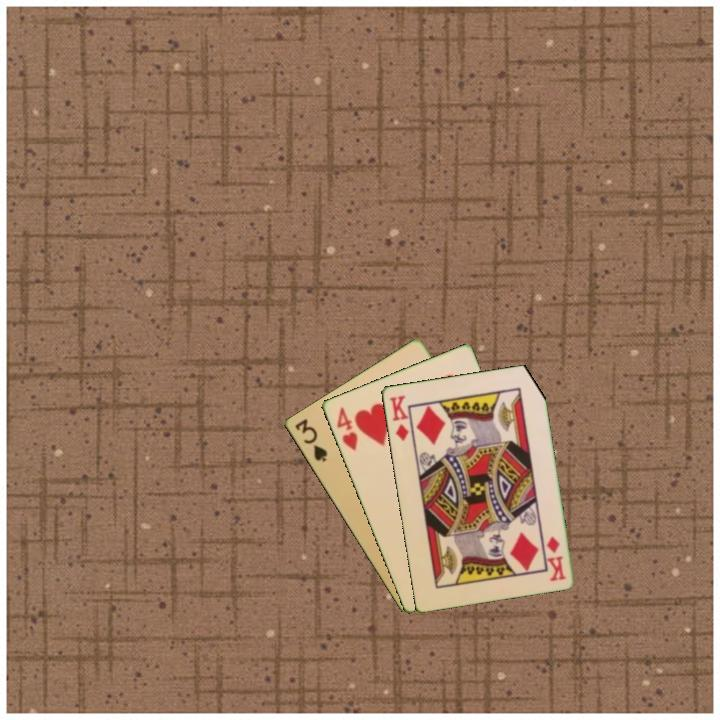3s: (291, 415, 330, 465)
4h: (333, 403, 360, 454)
Kd: (386, 392, 412, 444), (542, 532, 568, 584)
